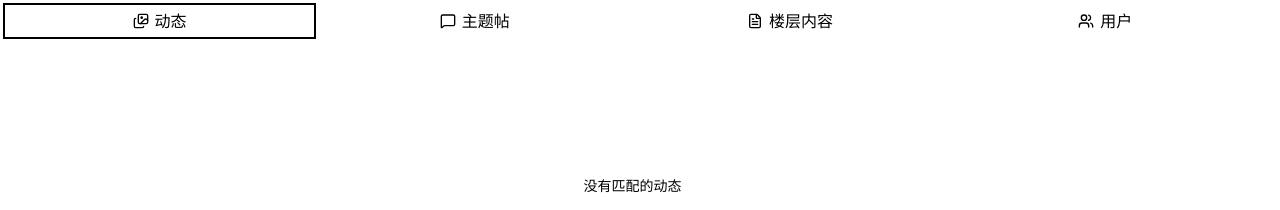
Test: SearchResults › 楼层搜索使用历史作者与服务端提及投影，普通文字和定位保持原样
Click the tab "楼层内容" at point(790, 21), box [634,4,946,38]
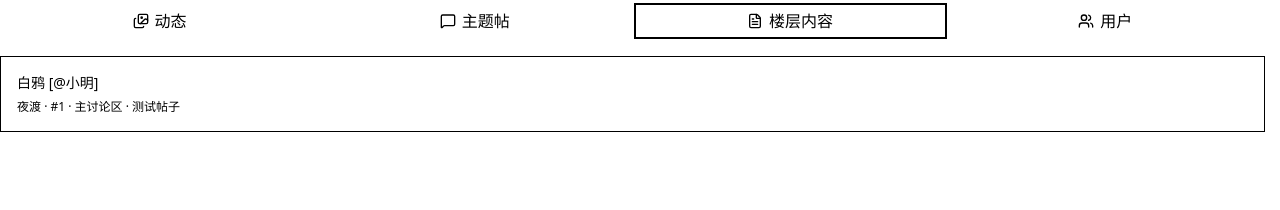
Result: the text "白鸦 [@小明]" is shown at [17,73,98,92]
Result: the text "夜渡 · #1 · 主讨论区 · 测试帖子" is shown at [17,98,180,115]
